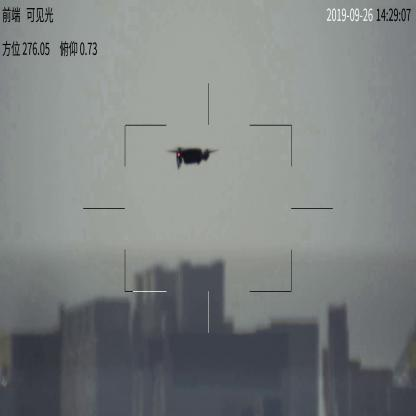uav: (165, 144, 220, 172)
